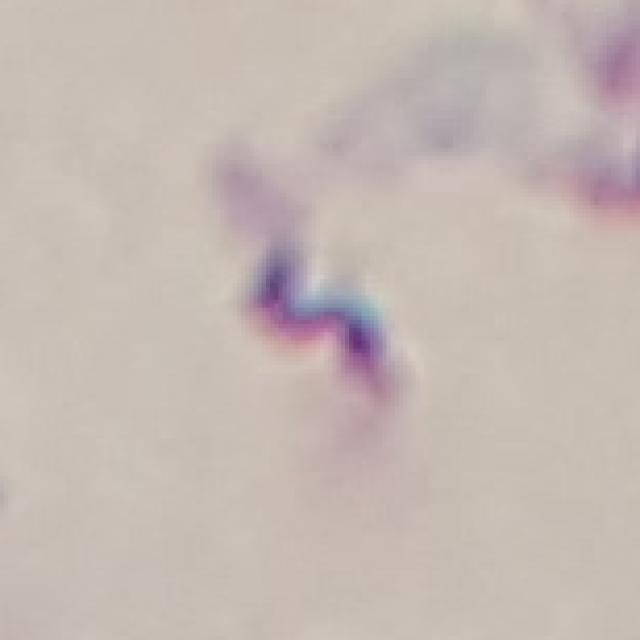non-sperm: (245, 245, 413, 405)
